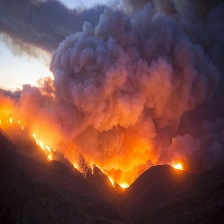fire: (30, 132, 55, 161), (100, 170, 129, 191), (70, 158, 89, 175), (8, 117, 26, 133), (172, 162, 184, 174)
smoke: (7, 3, 223, 158)
